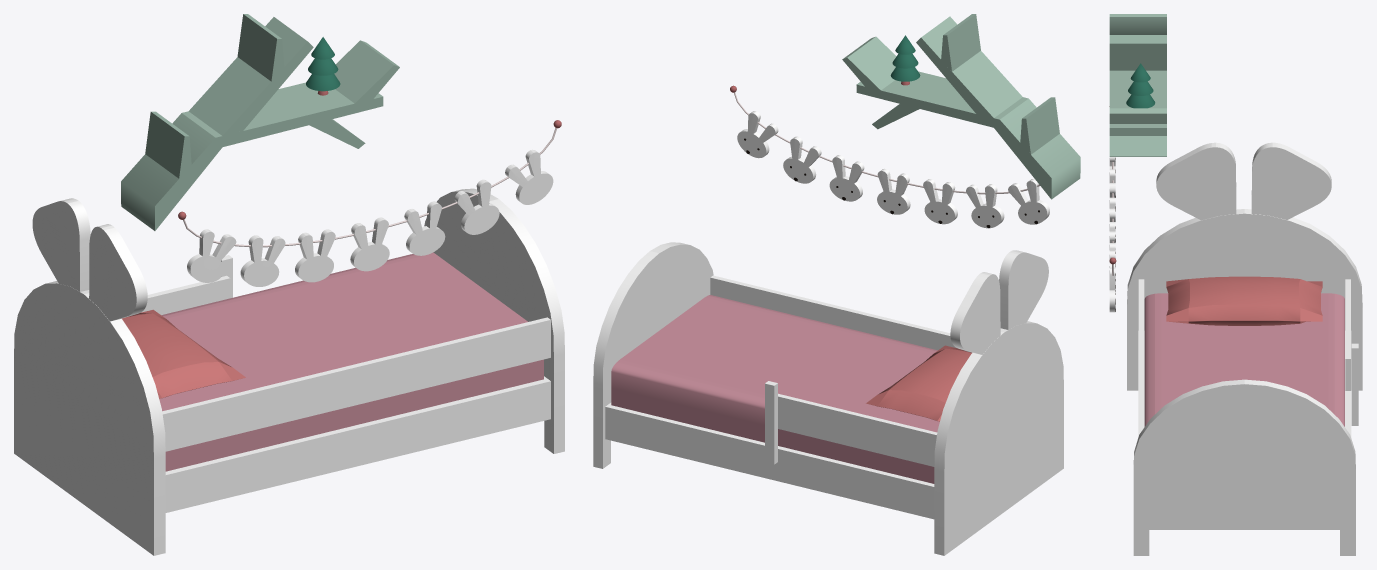
Rendered from Furn3_bed_color1_joined.fbx.
The picture shows the model from 3 angles, left to right: view 1: azimuth 30°, elevation 25°; view 2: azimuth 150°, elevation 25°; view 3: azimuth 270°, elevation 25°; orthographic projection. The views are drawn at different scales.
Parts seen in each view (by area): view 1: Куб.002; view 2: Куб.002; view 3: Куб.002.
Boxes of the visible parts, x1,y1,x2,y2 form: Куб.002: (14, 14, 564, 555); Куб.002: (593, 14, 1080, 555); Куб.002: (1109, 14, 1362, 555).
Bounding box in the file's own units: 399 × 447 × 245.
